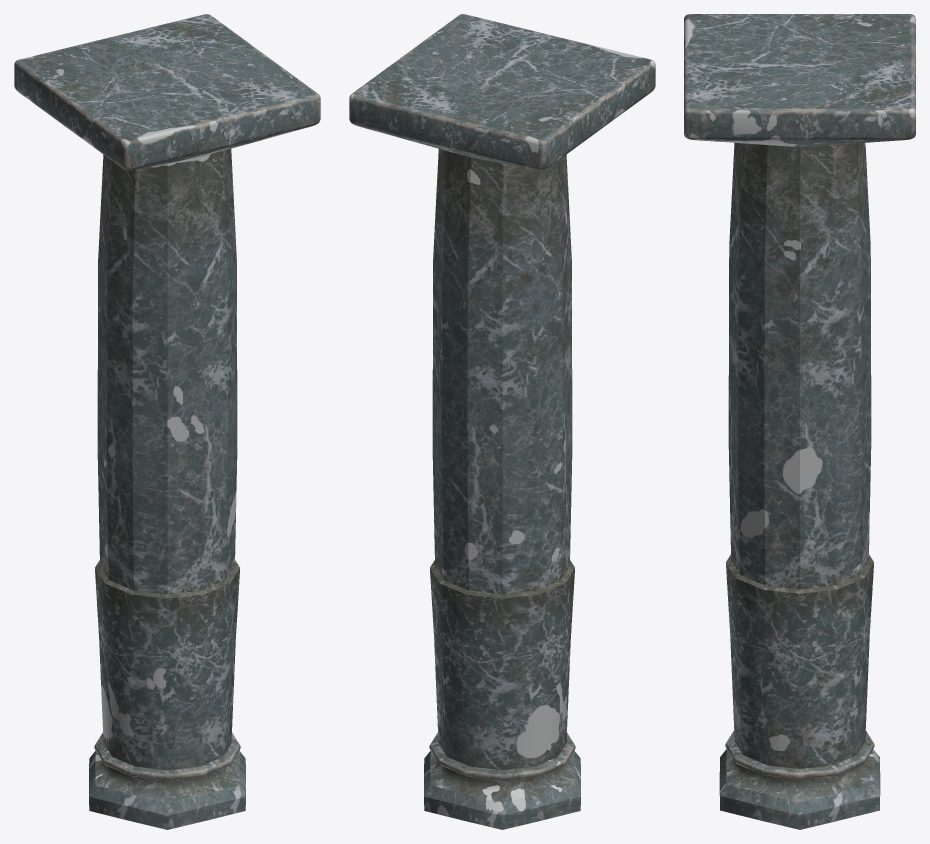
Rendered from Pillar.fbx.
3 views of the same model, side by side, from view 1: azimuth 30°, elevation 25°; view 2: azimuth 150°, elevation 25°; view 3: azimuth 270°, elevation 25° (orthographic). The views are drawn at different scales.
Parts seen in each view (by area): view 1: Pillar; view 2: Pillar; view 3: Pillar.
Part boxes in pixels (x1,y1,x2,y2): Pillar: (14,14,320,829); Pillar: (349,14,655,829); Pillar: (684,14,915,829).
Size of the model in its own units: 144 by 500 by 144.
